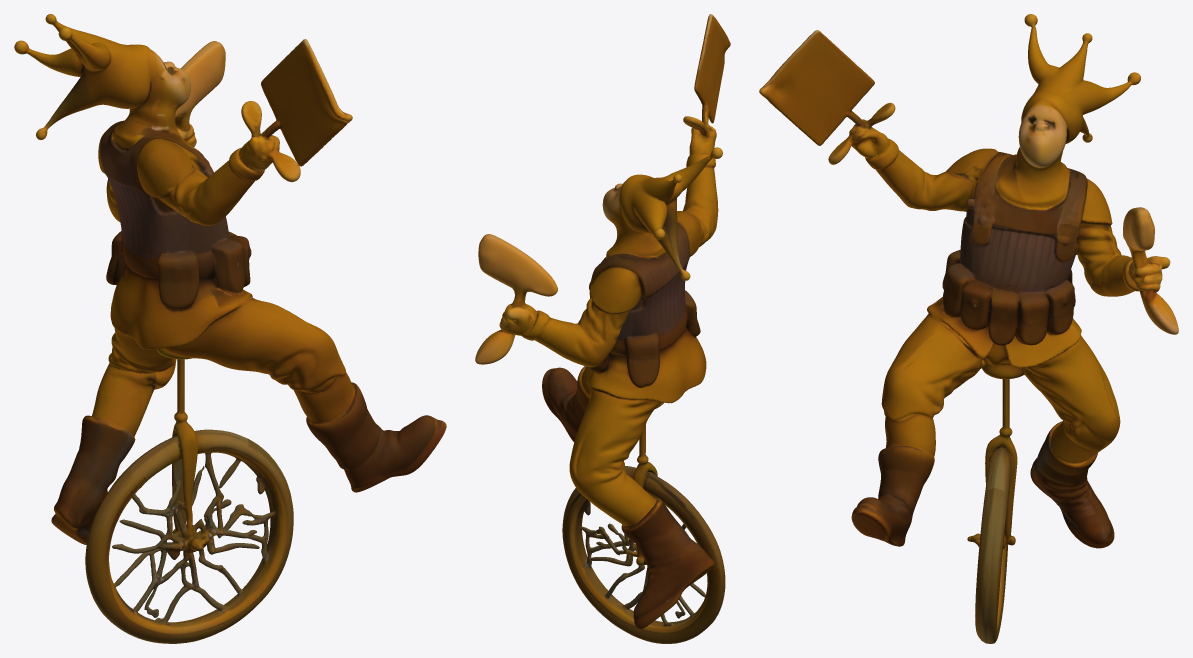
The picture shows the model from 3 angles, left to right: view 1: azimuth 30°, elevation 25°; view 2: azimuth 150°, elevation 25°; view 3: azimuth 270°, elevation 25°; orthographic projection. The views are drawn at different scales.
Visible parts, largest first — view 1: tripo_node_306c9a77-2937-4716-b734-f82f95ae9f50; view 2: tripo_node_306c9a77-2937-4716-b734-f82f95ae9f50; view 3: tripo_node_306c9a77-2937-4716-b734-f82f95ae9f50.
Part boxes in pixels (x1,y1,x2,y2): tripo_node_306c9a77-2937-4716-b734-f82f95ae9f50: [14, 14, 446, 643]; tripo_node_306c9a77-2937-4716-b734-f82f95ae9f50: [475, 14, 730, 643]; tripo_node_306c9a77-2937-4716-b734-f82f95ae9f50: [759, 14, 1178, 643].
Bounding box in the file's own units: 0.4667 × 1 × 0.6206.
1 material, 1 textured.
